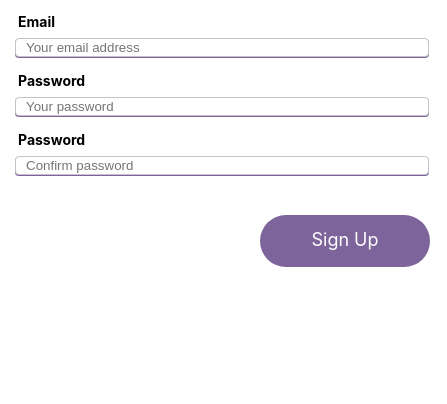
Test: and expect valid input to not render error message but rather complete sign in
Type "test@example.com" into the field with placeholder "Your email address" at (222, 48), box 15,38 -> 429,57
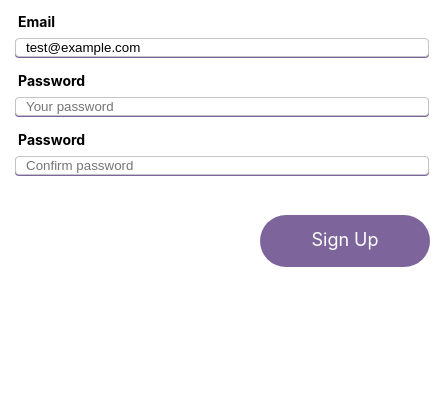
Type "veryValid123@" into the password field with placeholder "Your password" at (222, 106), box 15,97 -> 429,116
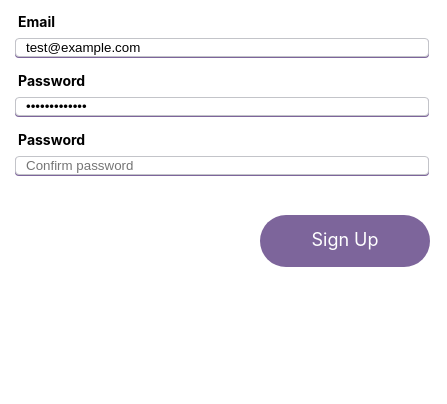
Type "veryValid123@" into the password field with placeholder "Confirm password" at (222, 166), box 15,156 -> 429,175
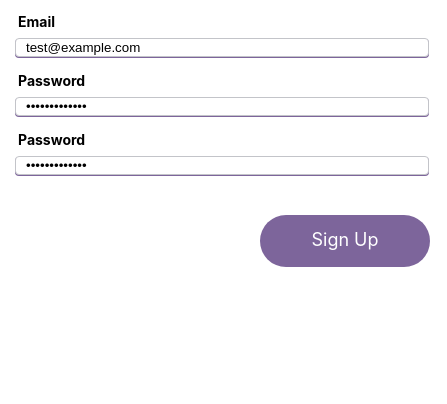
Click the text "Sign Up" at (345, 241), box 260,215 -> 430,267
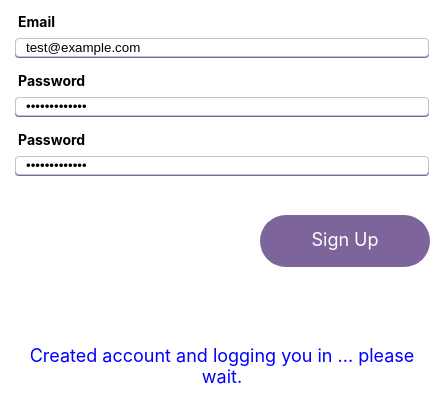
Now the text "Created account and logging you in ... please wait." is shown, box 15,345 -> 429,387
